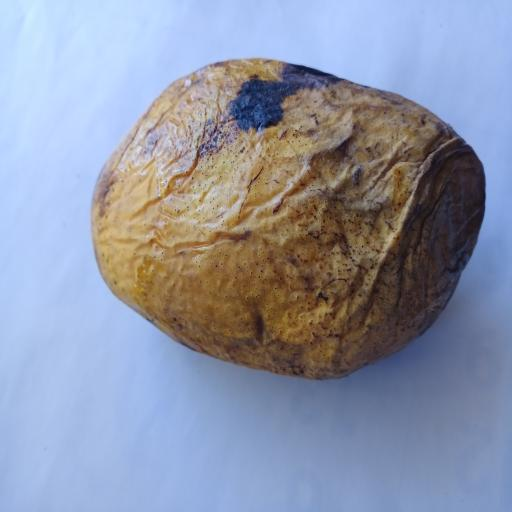mango-overripe: (83, 49, 494, 391)
